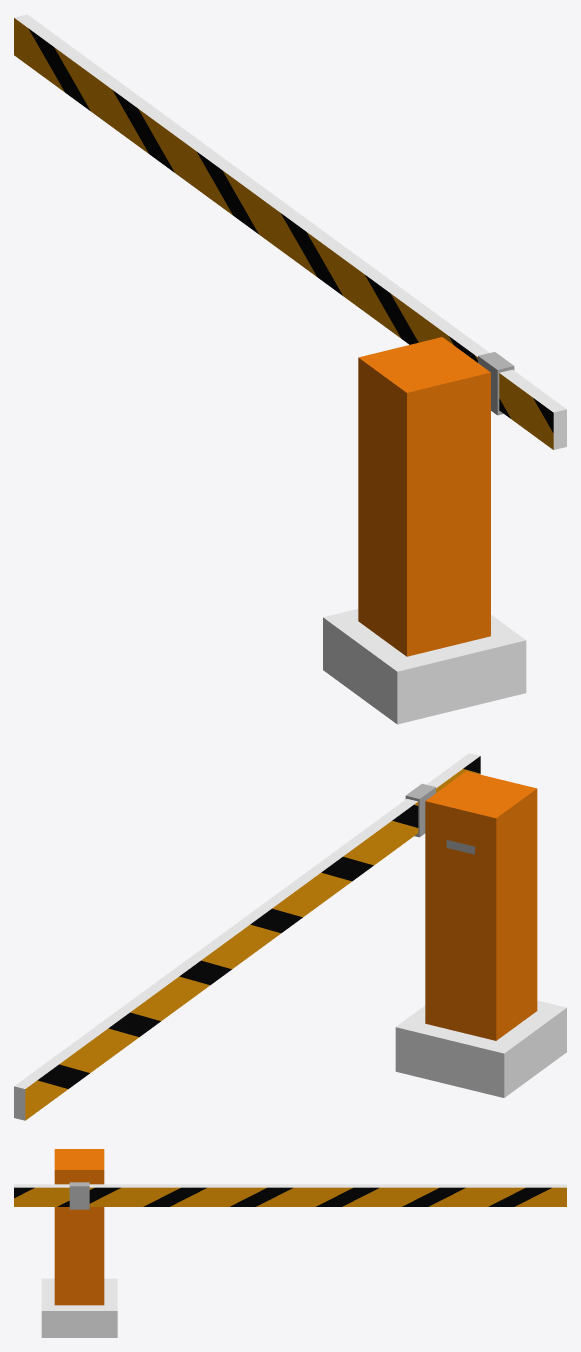
Rendered from Cancela Lado A.fbx.
The picture shows the model from 3 angles, top to bottom: view 1: azimuth 30°, elevation 25°; view 2: azimuth 150°, elevation 25°; view 3: azimuth 270°, elevation 25°; orthographic projection. The views are drawn at different scales.
Visible parts, largest first — view 1: box, Gate_Arm_Side1, box1; view 2: box, Gate_Arm_Side1, box1; view 3: Gate_Arm_Side2, box, box1.
Part boxes in pixels (<box>): box: <box>323,337,526,724</box>; Gate_Arm_Side1: <box>14,18,553,449</box>; box1: <box>14,14,566,449</box>; box: <box>395,771,566,1097</box>; Gate_Arm_Side1: <box>25,756,480,1120</box>; box1: <box>14,753,479,1120</box>; Gate_Arm_Side2: <box>14,1187,566,1206</box>; box: <box>41,1149,117,1337</box>; box1: <box>14,1182,566,1209</box>.
Size of the model in its own units: 655 by 1372 by 4237.
